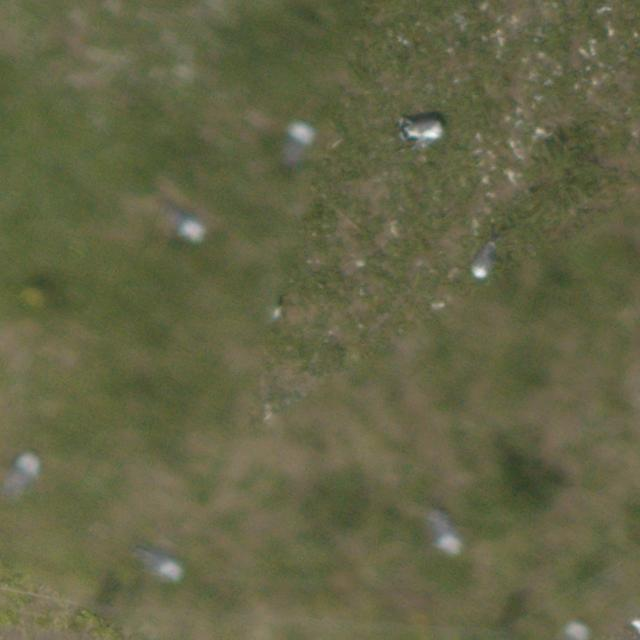umineko: (273, 122, 310, 171), (1, 451, 41, 494), (166, 202, 208, 242), (436, 510, 464, 558), (140, 552, 183, 581), (401, 117, 445, 142), (474, 245, 495, 279)
